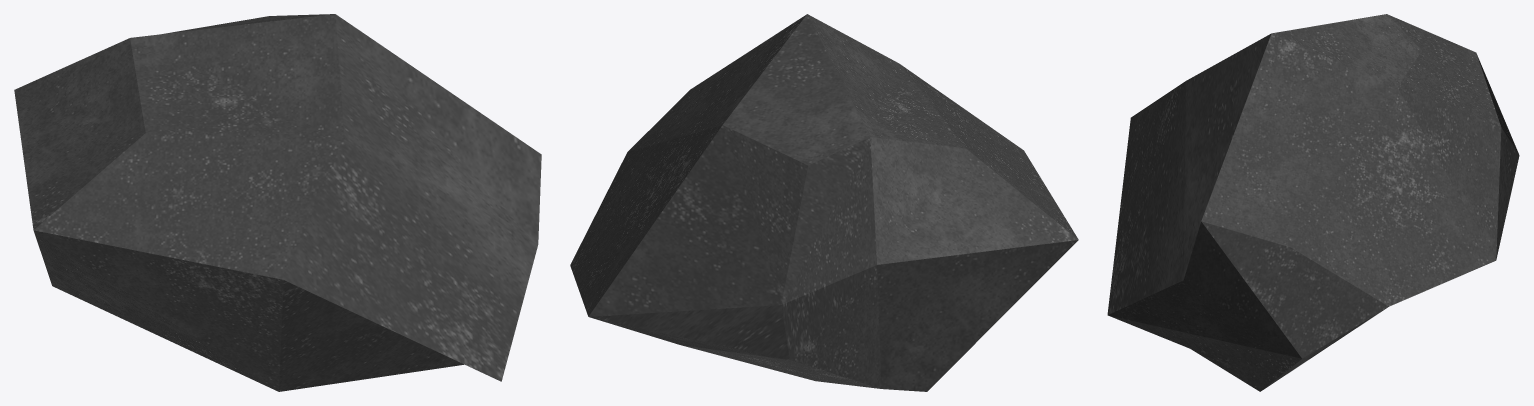
The model's file is Stone_4.fbx.
3 views of the same model, side by side, from view 1: azimuth 30°, elevation 25°; view 2: azimuth 150°, elevation 25°; view 3: azimuth 270°, elevation 25° (orthographic). The views are drawn at different scales.
Parts seen in each view (by area): view 1: Cube; view 2: Cube; view 3: Cube.
Part boxes in pixels (x1=…): Cube: x1=14, y1=14, x2=541, y2=391; Cube: x1=570, y1=14, x2=1078, y2=391; Cube: x1=1107, y1=14, x2=1519, y2=391.
Size of the model in its own units: 68.91 by 48.6 by 60.85.
